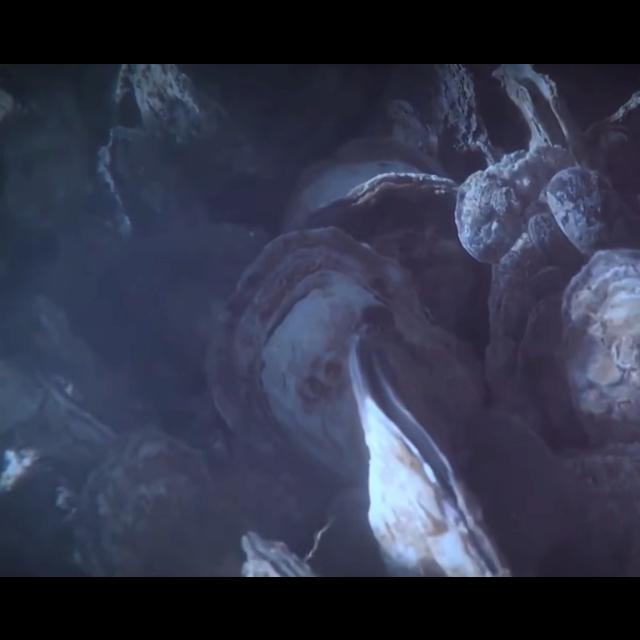Oyster-Closed: (202, 228, 496, 514), (302, 174, 493, 348), (61, 432, 230, 576), (488, 235, 586, 432), (276, 134, 454, 230), (564, 252, 640, 456), (128, 63, 258, 149), (426, 63, 492, 173), (552, 170, 632, 258), (458, 168, 528, 268), (374, 98, 442, 164), (530, 214, 582, 270)
Oyster-Open: (347, 326, 511, 576), (98, 125, 210, 238), (494, 62, 590, 168)
